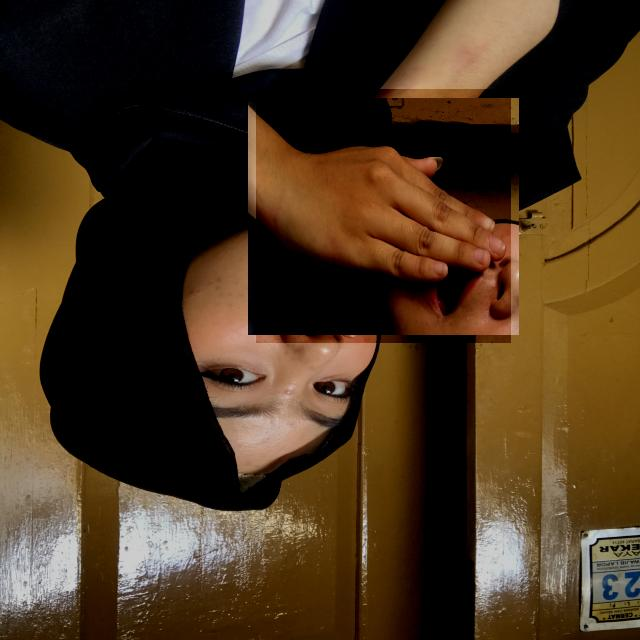ngantuk: (256, 89, 511, 343)
